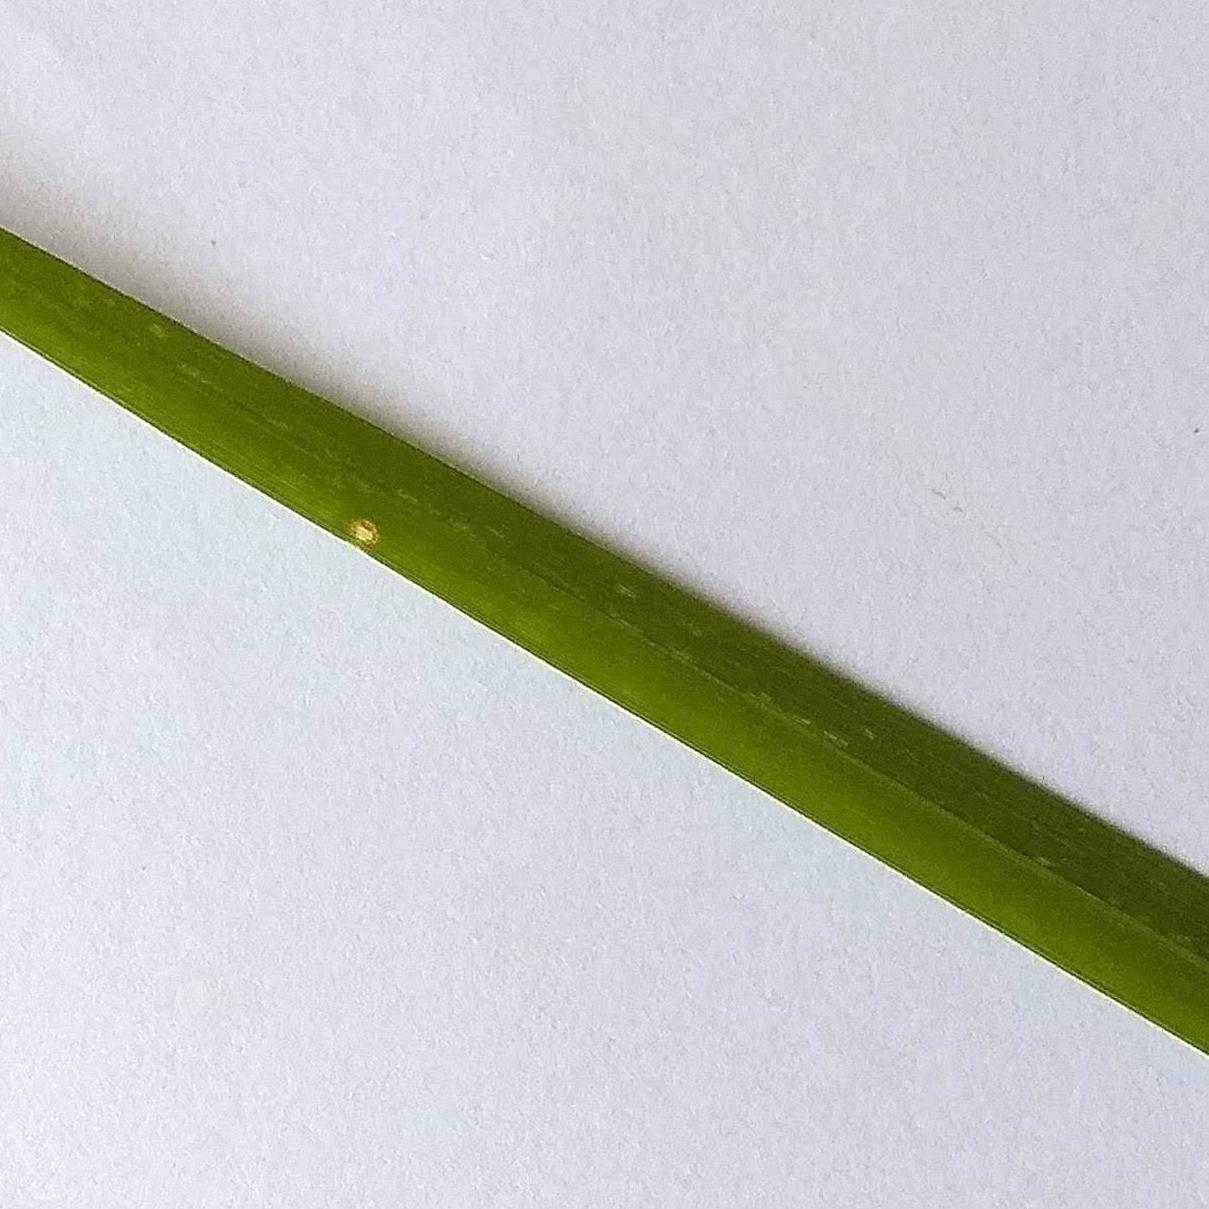1 RiceBlast: (342, 489, 383, 564)
